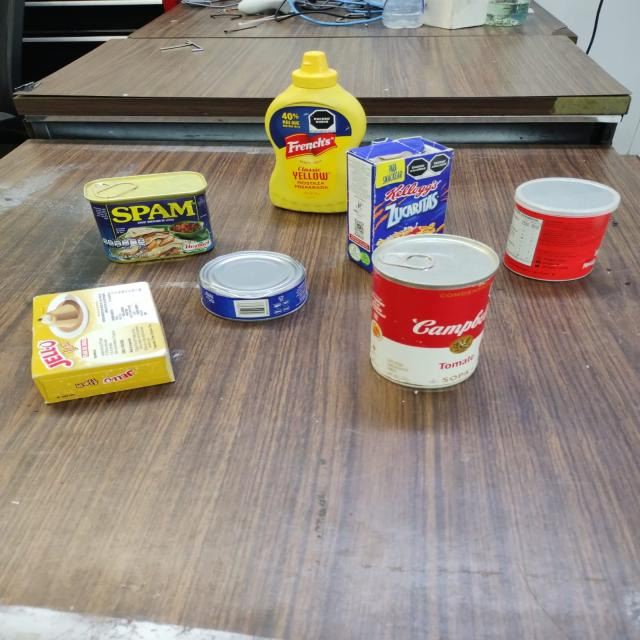can of cream: (368, 233, 498, 384)
can of tuna: (197, 250, 305, 319)
cereal: (347, 134, 452, 272)
chips: (504, 177, 620, 283)
jelly: (31, 283, 178, 402)
mustard: (263, 52, 367, 210)
spam: (84, 170, 215, 263)
